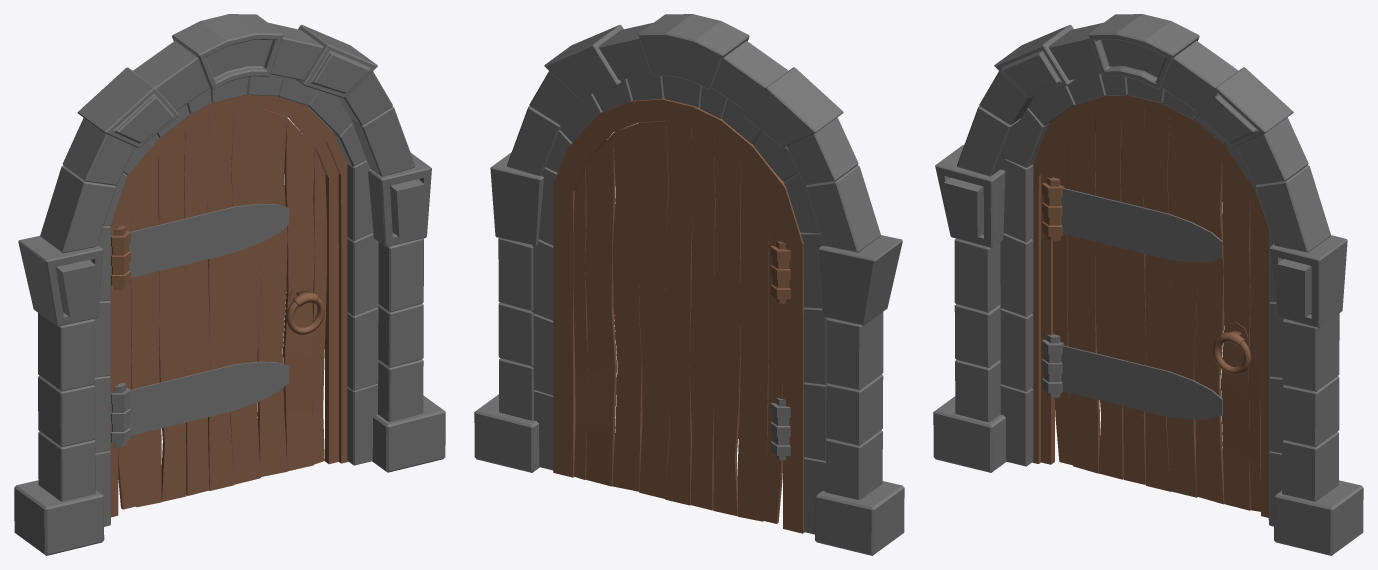
File: MedivalDoorInsert10hrs.fbx
3 views of the same model, side by side, from view 1: azimuth 30°, elevation 25°; view 2: azimuth 150°, elevation 25°; view 3: azimuth 330°, elevation 25° (orthographic).
Visible parts, largest first — view 1: StoneDoorWay, WoodenDoor; view 2: StoneDoorWay, WoodenDoor; view 3: StoneDoorWay, WoodenDoor.
Boxes of the visible parts, x1,y1,x2,y2 form: StoneDoorWay: (14, 14, 445, 555); WoodenDoor: (111, 106, 326, 509); StoneDoorWay: (474, 14, 904, 555); WoodenDoor: (573, 120, 790, 523); StoneDoorWay: (933, 14, 1363, 555); WoodenDoor: (1042, 108, 1260, 511).
Bounding box in the file's own units: 343 × 385 × 51.67.
